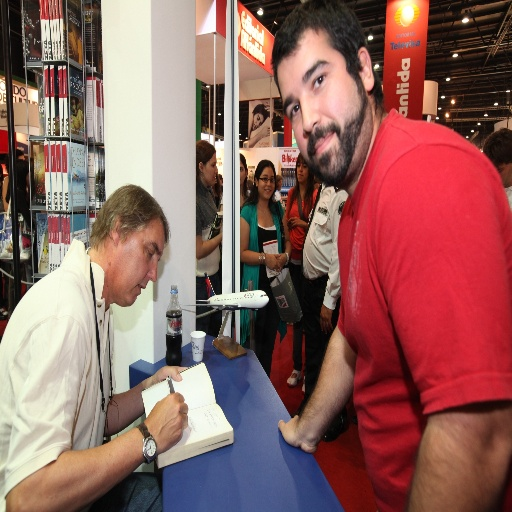hand: (280, 317, 356, 462), (145, 389, 188, 454), (148, 366, 187, 385), (318, 305, 333, 336), (265, 253, 281, 272), (287, 217, 304, 229), (277, 253, 287, 269)
